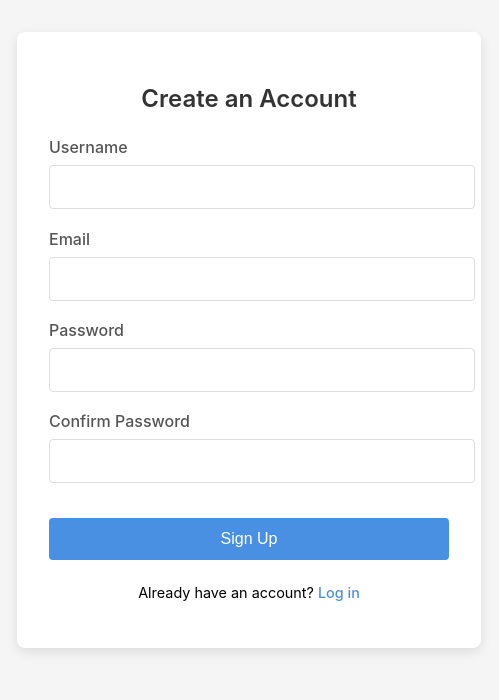
it: Register Component › shows error when registration fails
Fill in the form
Type "existinguser" into the field labelled "Username" at (262, 187), box [49,165,475,209]
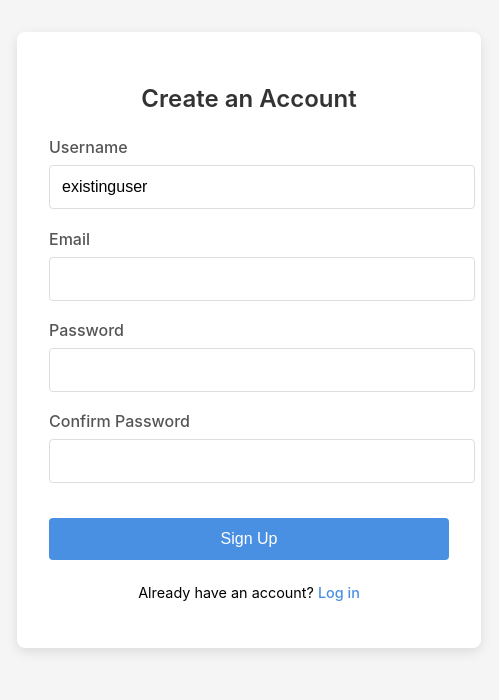
Type "test@example.com" into the field labelled "Email" at (262, 279), box [49,257,475,301]
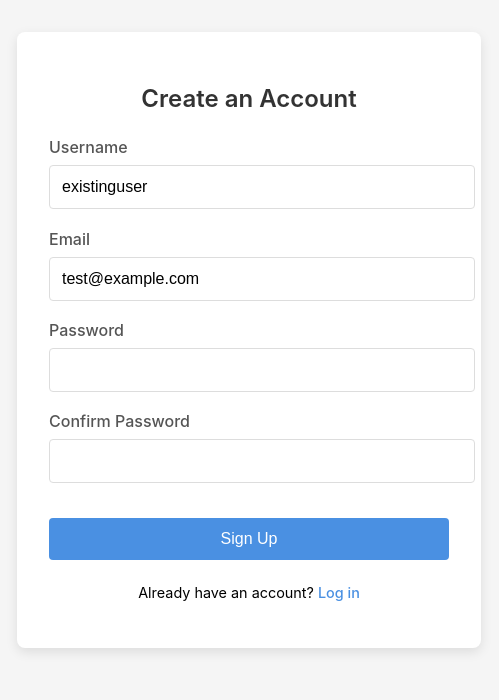
Type "testpassword" into the password field labelled "Password" at (262, 370), box [49,348,475,392]
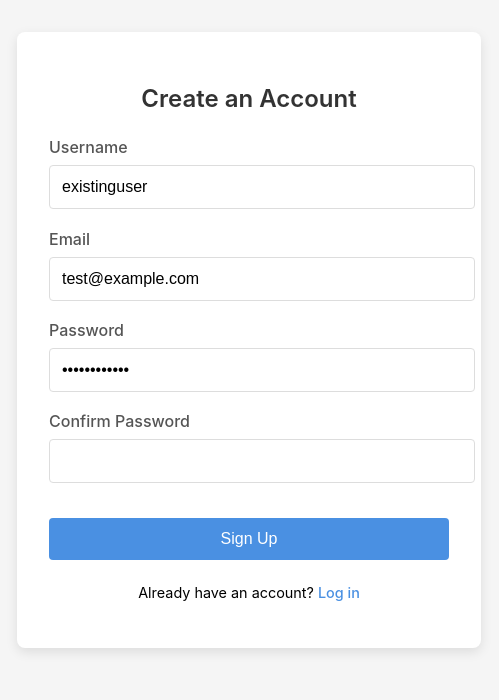
Type "testpassword" into the password field labelled "Confirm Password" at (262, 461), box [49,439,475,483]
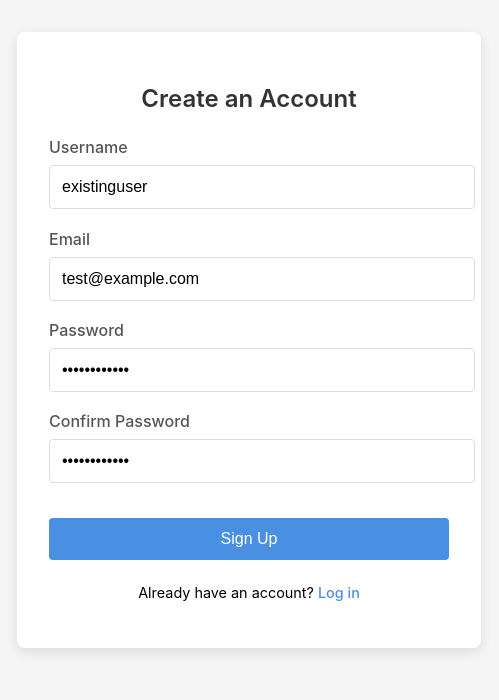
Submit the form
Click the button "Sign Up" at (249, 539), box [49,518,449,560]
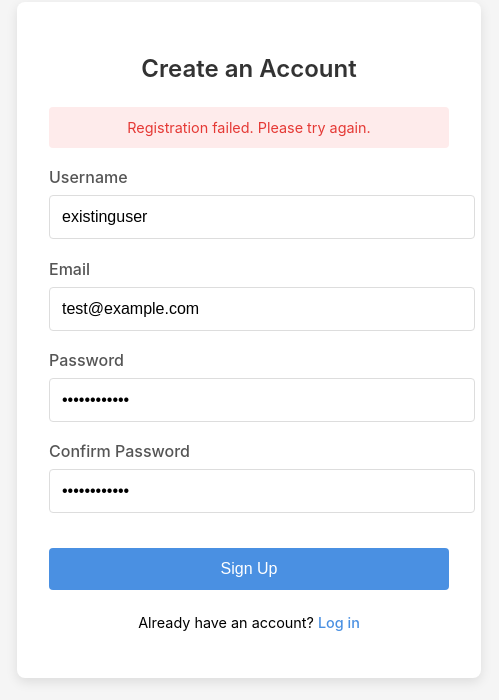
Now the text "Registration failed. Please try again." is shown, box [49,107,449,148]
